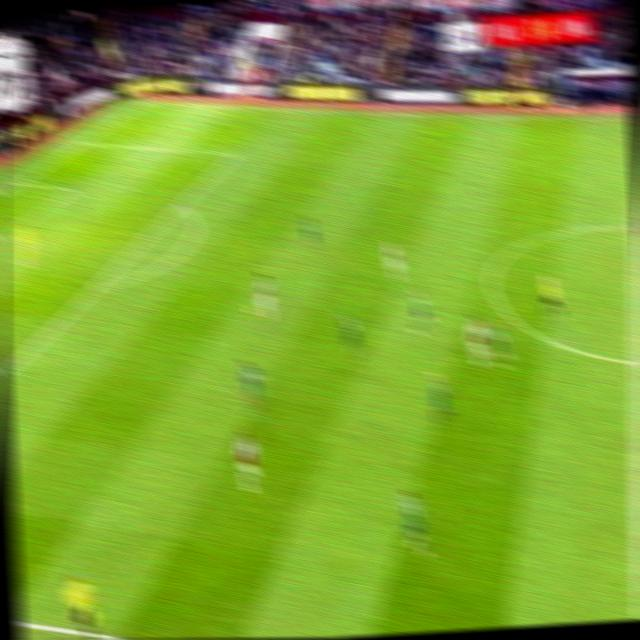bigarea_top_inner: (225, 149, 241, 162)
bigarea_top_outter: (74, 137, 89, 150)
bottom_arc_area_intersection: (86, 281, 104, 298)
corner: (136, 98, 151, 107)
halfcircle_bottom: (623, 343, 640, 379)
halfcircle_top: (628, 217, 640, 236)
smallarea_top_inner: (63, 183, 79, 196)
smallarea_top_outter: (13, 179, 25, 188)
top_arc_area_intersection: (173, 199, 190, 213)
